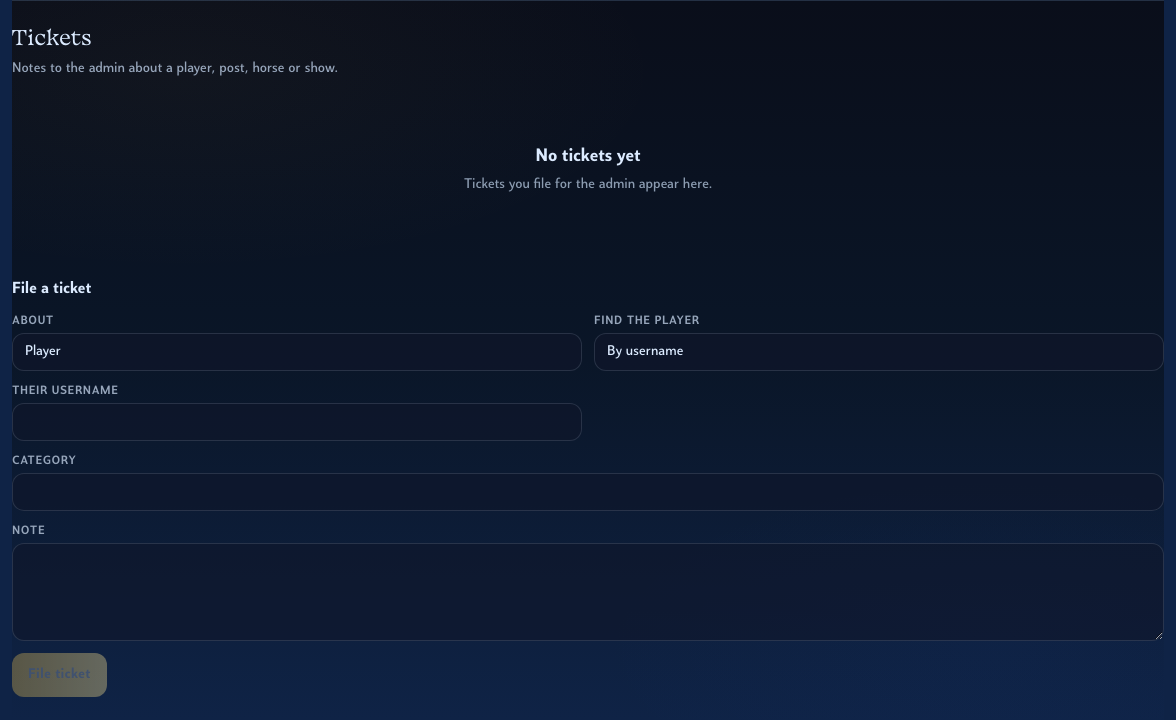
StaffTickets: filing safety › starts the ID over when a post becomes a horse
Select "Post" in the dropdown labelled "About" at (297, 352), box [12,333,582,371]
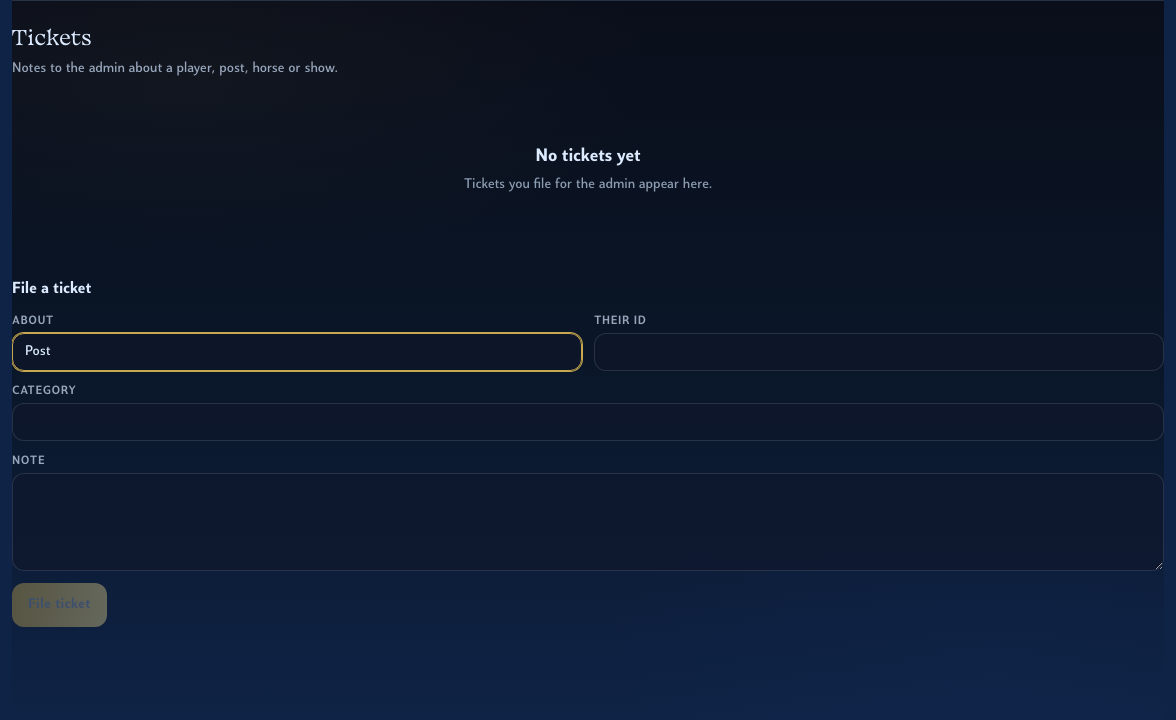
Type "42" into the field labelled "Their ID" at (879, 352), box [594,333,1164,371]
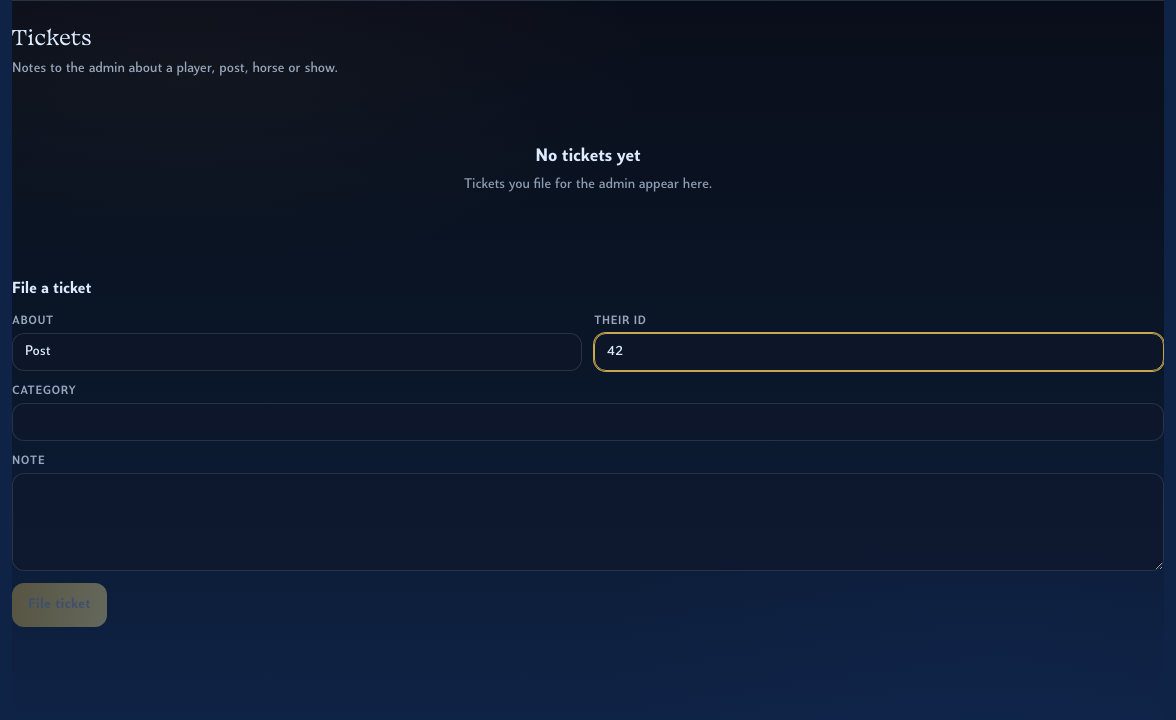
Type "Spam" into the field labelled "Category" at (588, 422), box [12,403,1164,441]
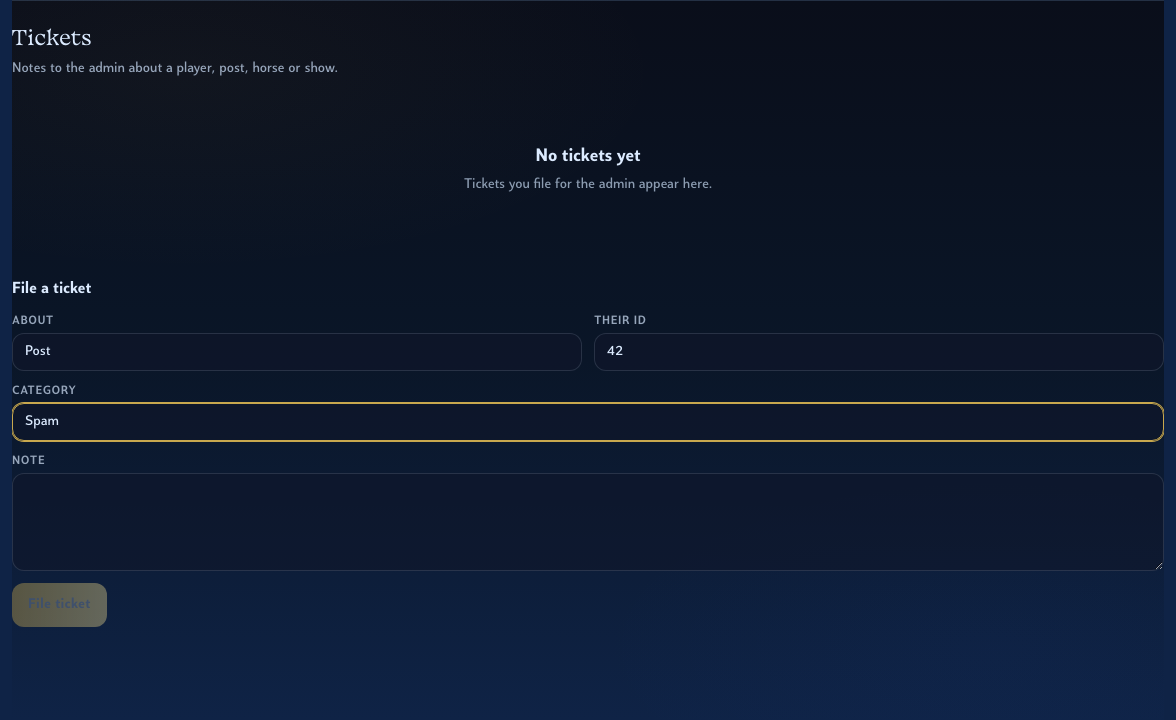
Type "Selling coins" into the text box labelled "Note" at (588, 522), box [12,473,1164,571]
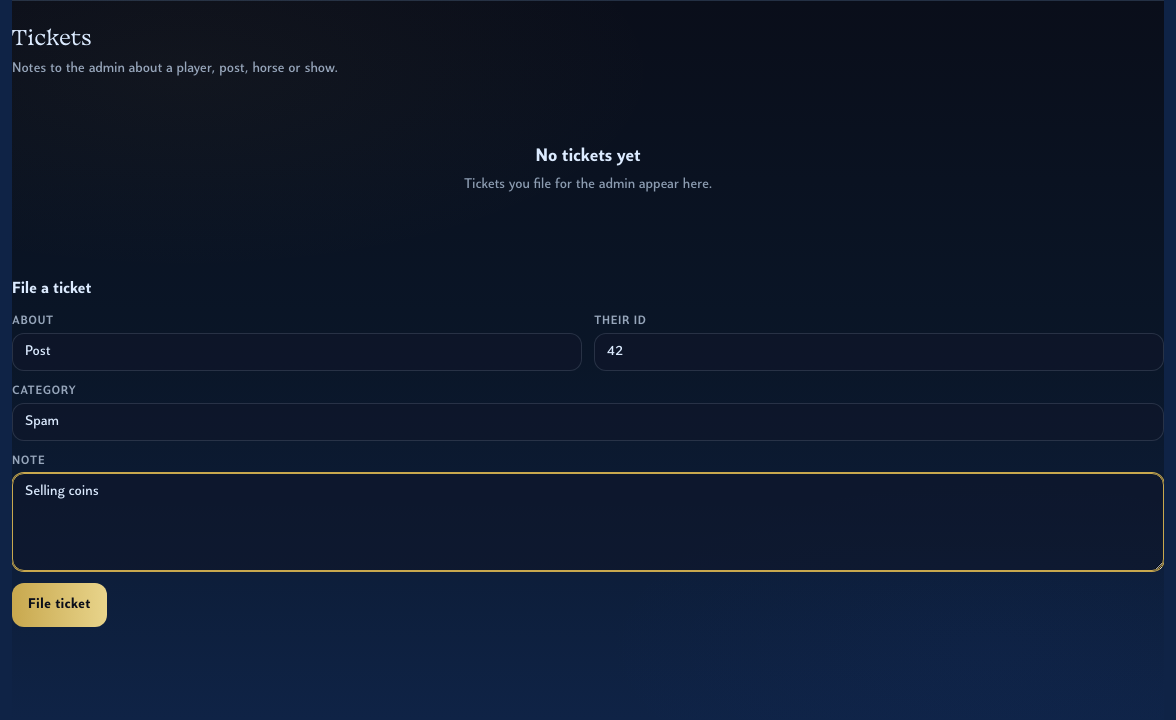
Select "Horse" in the dropdown labelled "About" at (297, 352), box [12,333,582,371]
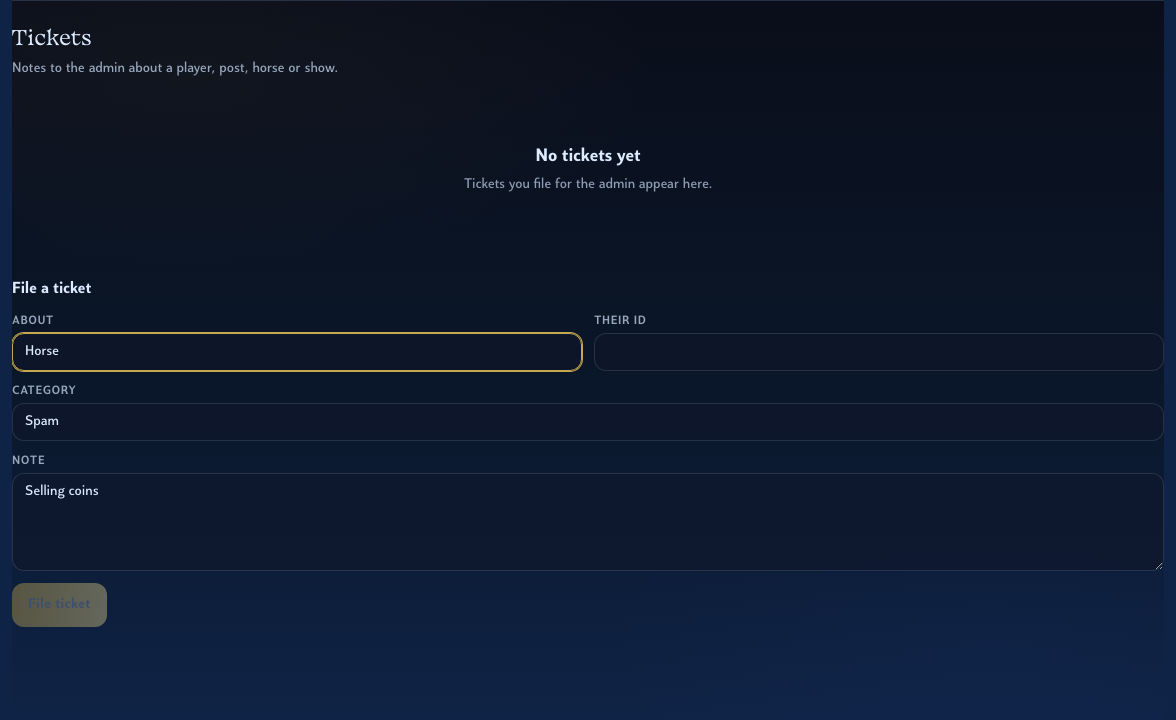
Check: the field labelled "Their ID" is empty, box [594,333,1164,371]
Check: the button "File ticket" is disabled, box [12,583,107,627]
